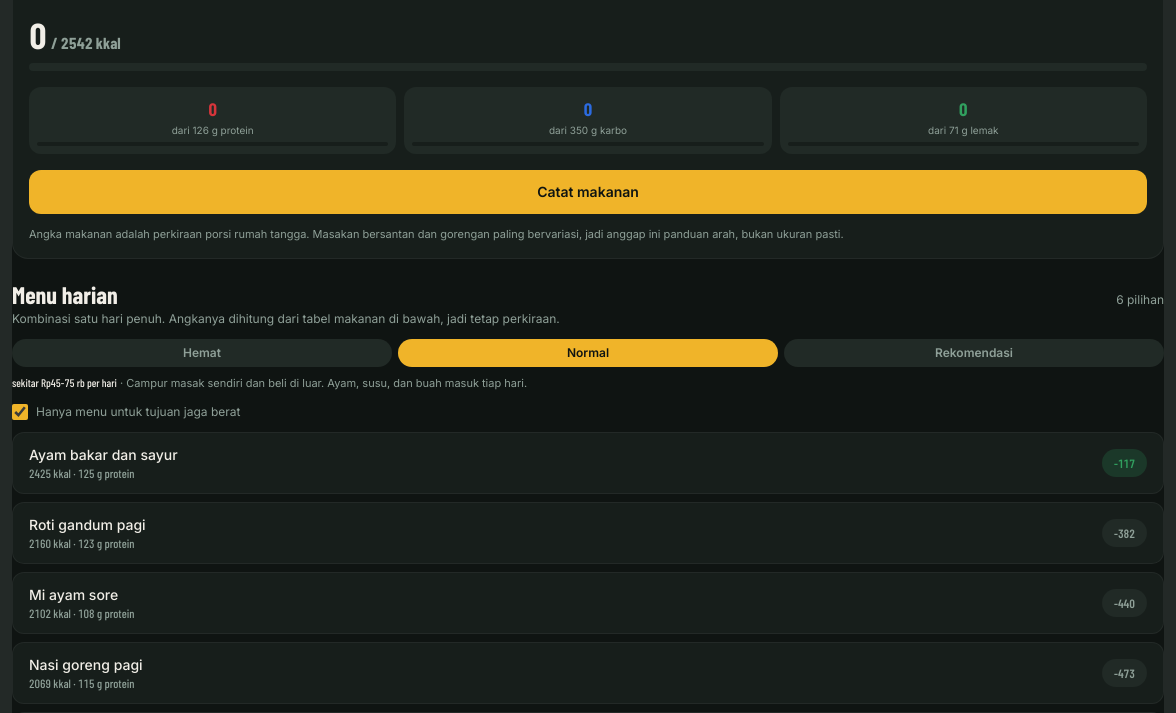
Test: pemilih tier budget › menampilkan kisaran biaya dan keterangan tier yang dipilih
(page scrolled)
Expected: the text "sekitar Rp45-75 rb per hari" is shown, [12,376,117,389]
Click the button "Hemat" at point(202, 353), box [12,339,392,367]
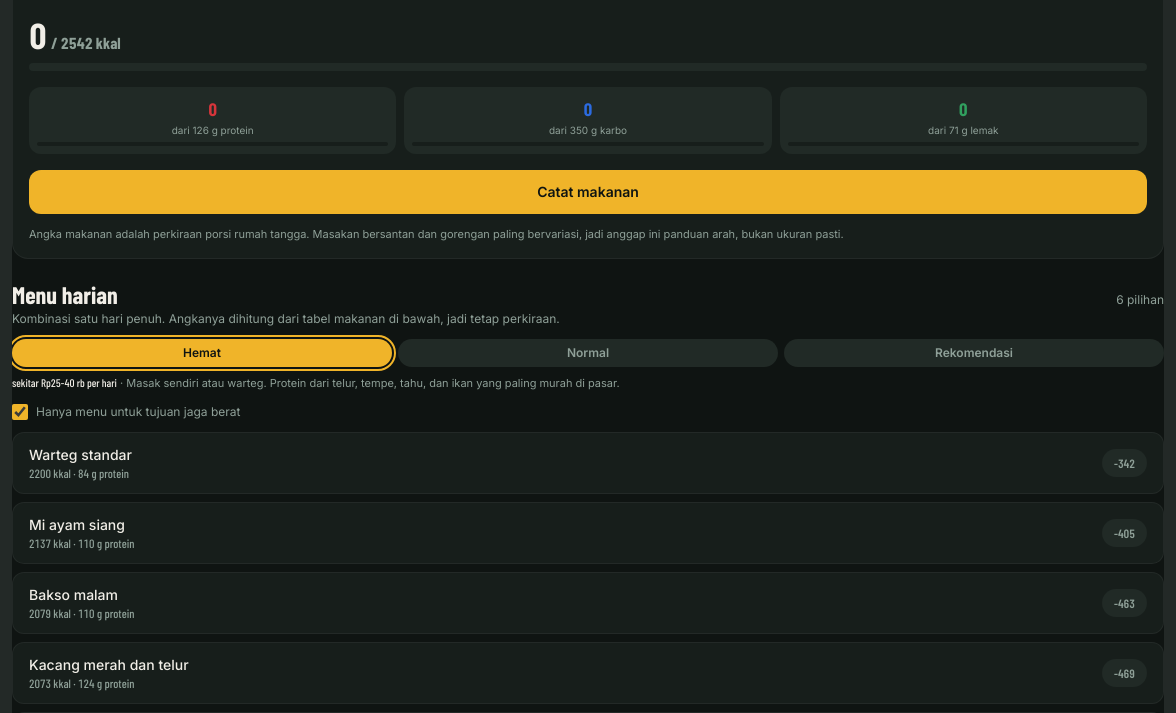
Now the text "sekitar Rp25-40 rb per hari" is shown, box [12,376,117,389]
